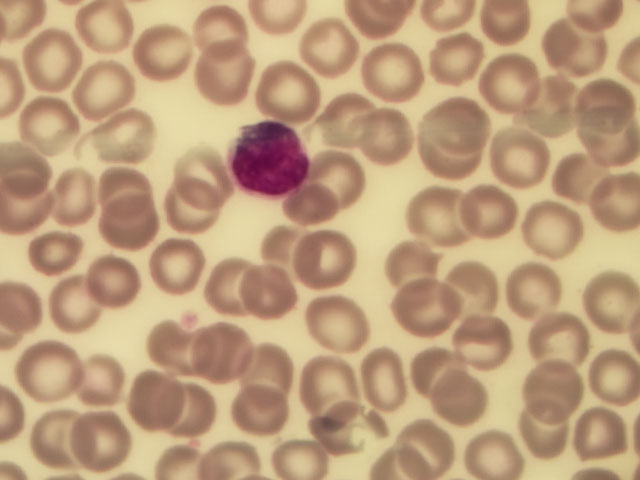RBC: (25, 31, 83, 91), (83, 59, 141, 119), (22, 88, 80, 148), (3, 139, 61, 199), (48, 168, 106, 228), (90, 104, 148, 164), (95, 155, 153, 215), (100, 197, 158, 257), (165, 178, 223, 238), (169, 144, 227, 204), (138, 27, 196, 87), (82, 1, 140, 61), (194, 47, 252, 107), (258, 64, 316, 124), (296, 19, 354, 79), (360, 39, 418, 99), (317, 88, 375, 148), (366, 110, 424, 170), (307, 136, 365, 196), (282, 177, 340, 237), (248, 222, 306, 282), (297, 231, 355, 291), (241, 268, 299, 328), (202, 253, 260, 313), (153, 234, 211, 294), (91, 253, 149, 313), (57, 274, 115, 334), (23, 220, 81, 280), (25, 344, 83, 404), (68, 348, 126, 408), (76, 406, 134, 466), (36, 410, 94, 470), (135, 369, 193, 429), (171, 384, 229, 444), (143, 312, 201, 372), (206, 323, 264, 383), (244, 340, 302, 400), (236, 379, 294, 439), (302, 353, 360, 413), (315, 409, 373, 469), (283, 420, 341, 480), (353, 349, 411, 409), (317, 293, 375, 353), (397, 279, 455, 339), (381, 241, 439, 301), (407, 189, 465, 249), (450, 179, 508, 239), (421, 127, 479, 187), (431, 95, 489, 155), (421, 27, 479, 87), (477, 47, 535, 107), (521, 75, 579, 135), (493, 128, 551, 188), (551, 146, 609, 206), (522, 200, 580, 260), (506, 265, 564, 325), (444, 261, 502, 321), (456, 311, 514, 371), (433, 369, 491, 429), (400, 347, 458, 407), (400, 420, 458, 480), (459, 420, 517, 480), (511, 402, 569, 462), (531, 361, 589, 421), (530, 315, 588, 375), (582, 267, 640, 327), (582, 341, 640, 401), (576, 399, 634, 459), (582, 73, 640, 133), (545, 24, 603, 84), (582, 171, 640, 231), (184, 1, 242, 60)
WBC: (225, 122, 309, 198)
